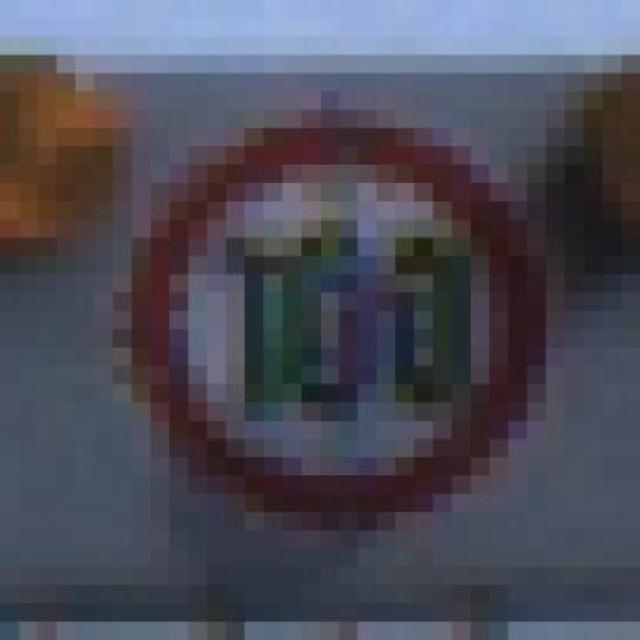forb_speed_over_100: (136, 117, 539, 514)
